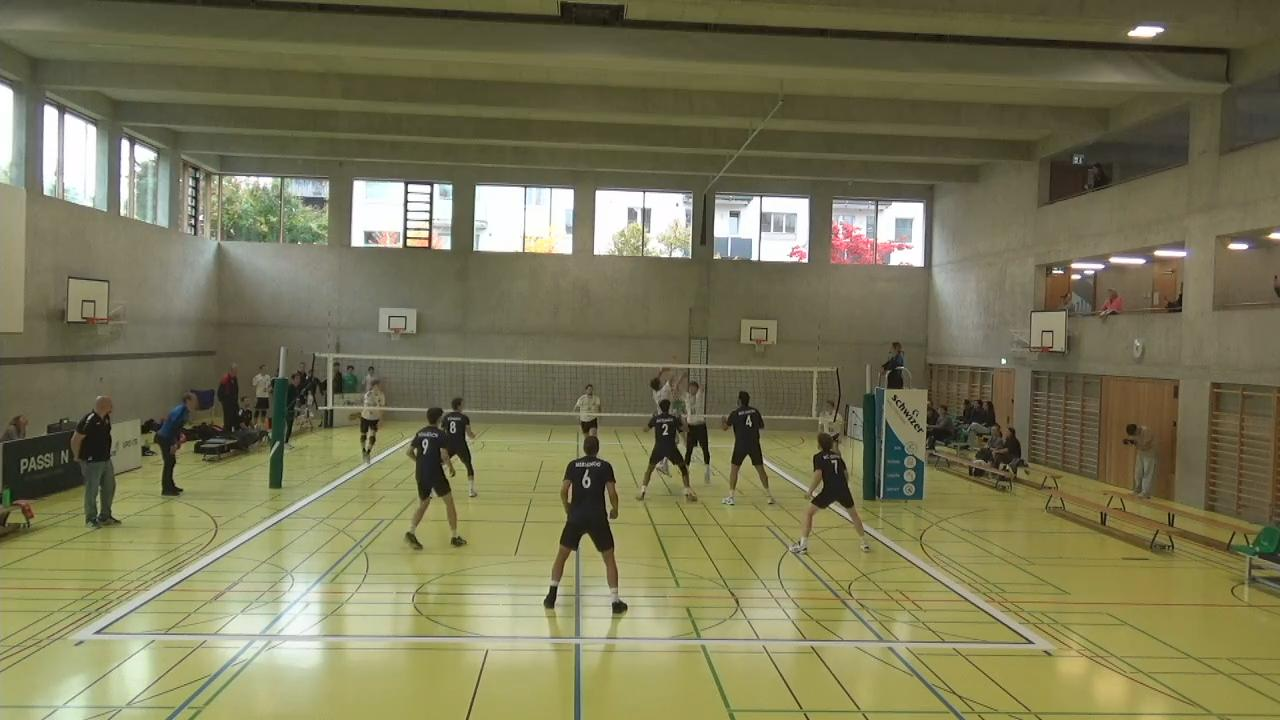Player: (543, 428, 625, 614), (404, 411, 466, 550), (796, 435, 868, 552), (720, 392, 777, 507), (637, 398, 696, 503), (440, 397, 478, 494), (681, 382, 715, 481), (356, 375, 385, 461), (811, 397, 846, 458), (575, 382, 601, 450)
Set: (647, 364, 672, 427)
ball: (658, 358, 674, 376)
